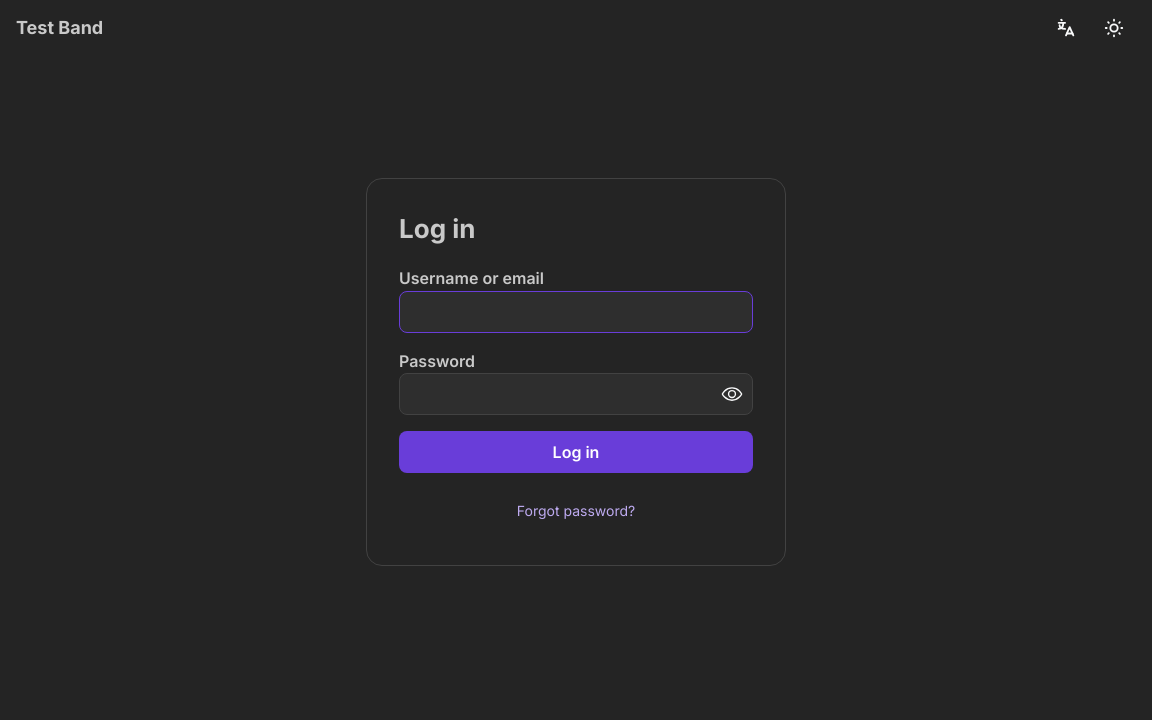
login page › shows a translated error for wrong credentials
Type "jana" into the field labelled "Username or email". click: point(576, 312)
box: [399,290,753,332]
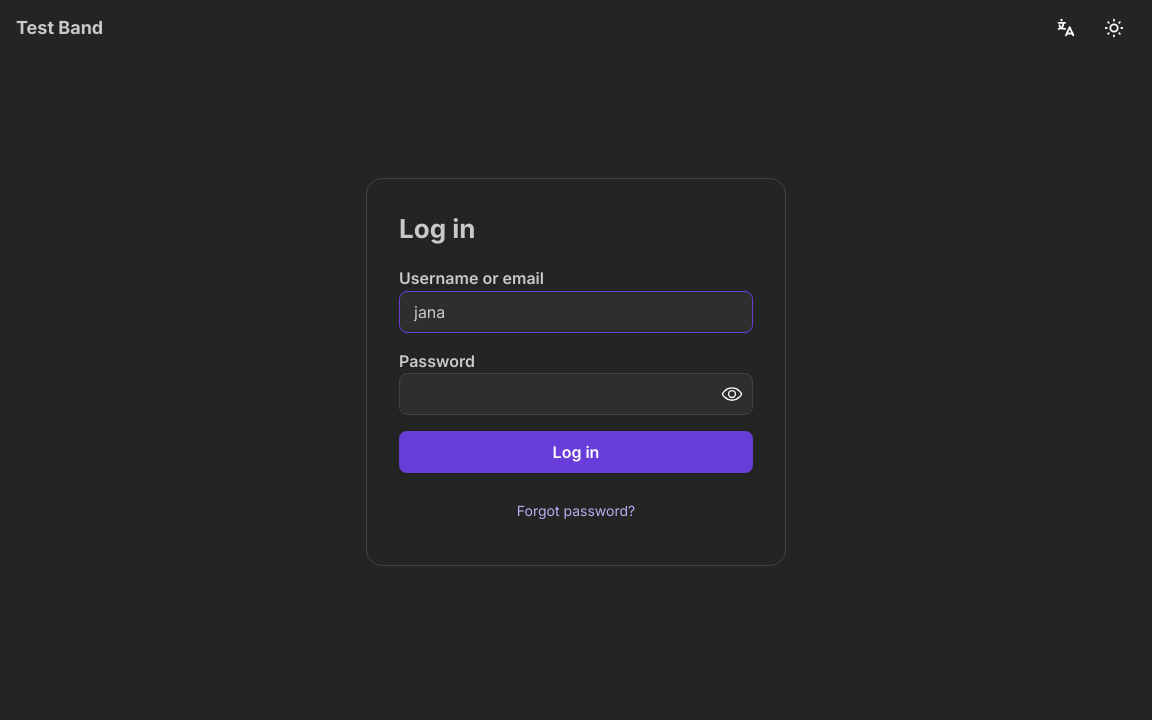
Type "wrong-password" into the password field labelled "Password". click: point(576, 394)
box: [400,374,752,414]
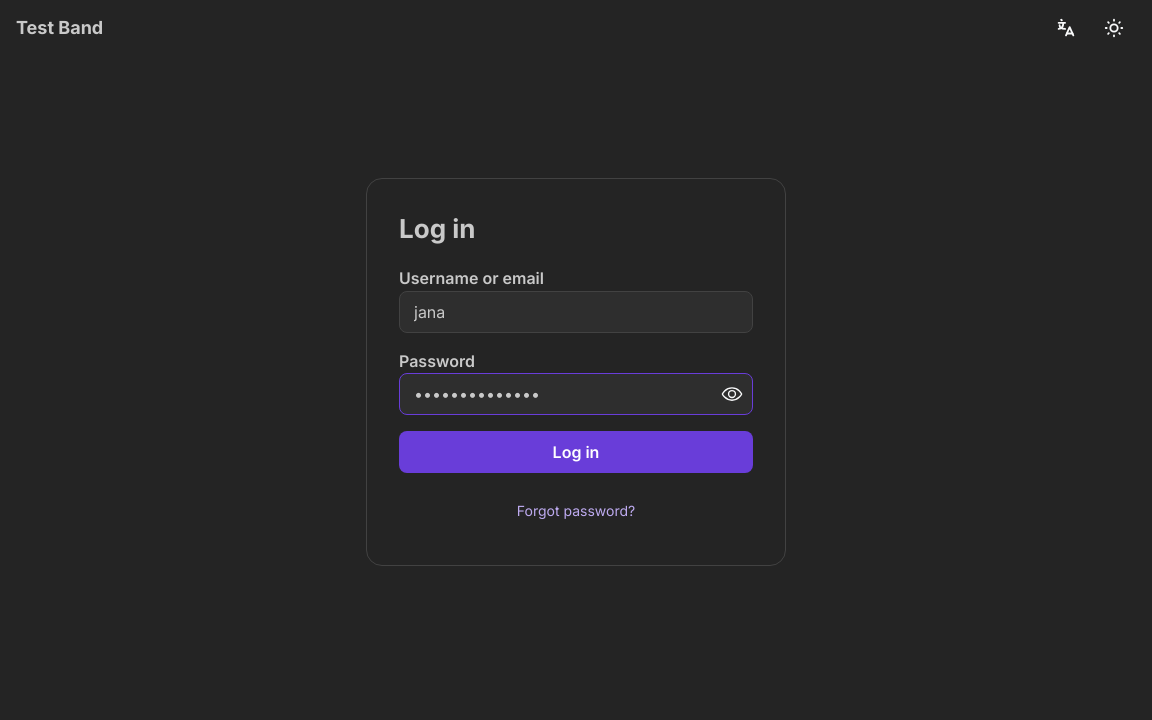
Click the button "Log in". click: point(576, 452)
box: [399,431,753,473]
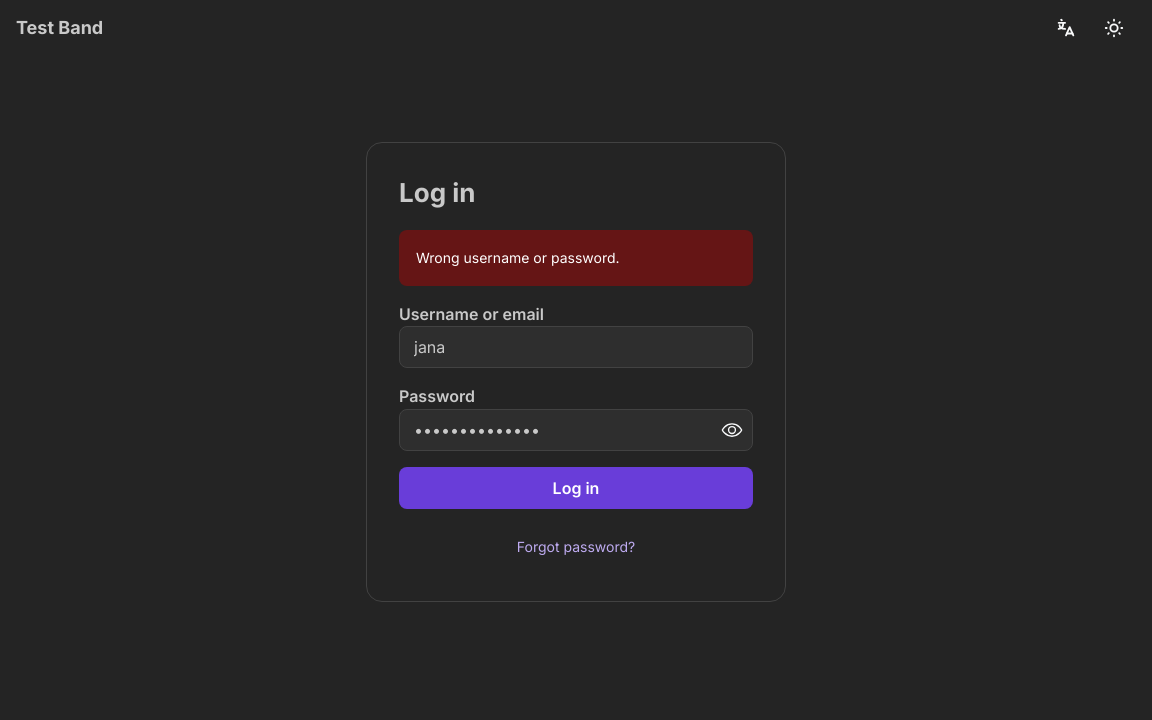
expect the message with test id "login-error" reads "Wrong username or password.": met, box [416,249,620,266]
